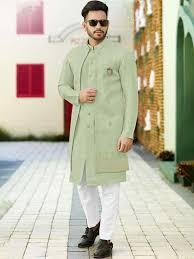Human: (52, 0, 138, 258)
